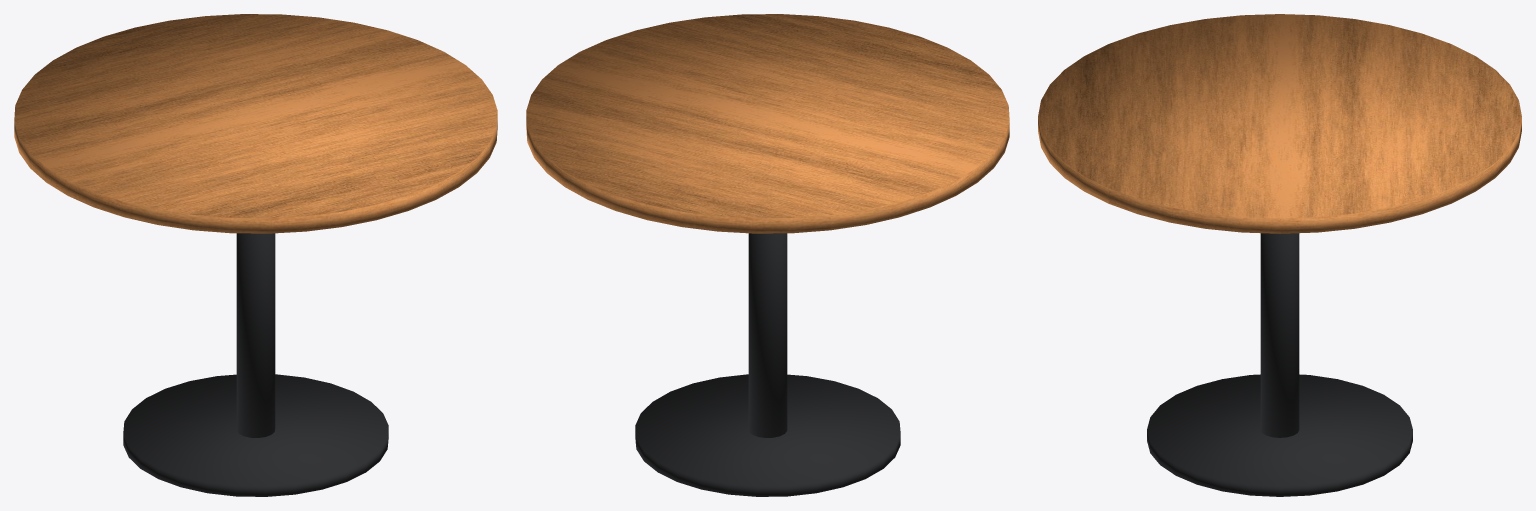
Rendered from meeting.round-table-4.glb.
3 renders of one model, left to right at view 1: azimuth 30°, elevation 25°; view 2: azimuth 150°, elevation 25°; view 3: azimuth 270°, elevation 25°, orthographic.
Parts seen in each view (by area): view 1: meeting.round-table-4.001; view 2: meeting.round-table-4.001; view 3: meeting.round-table-4.001.
Part boxes in pixels (box(x1,y1,x2,y2)): meeting.round-table-4.001: box(14, 14, 497, 496); meeting.round-table-4.001: box(526, 14, 1009, 496); meeting.round-table-4.001: box(1038, 14, 1521, 496).
Bounding box in the file's own units: 1 × 0.74 × 1.
2 materials, 1 textured.
